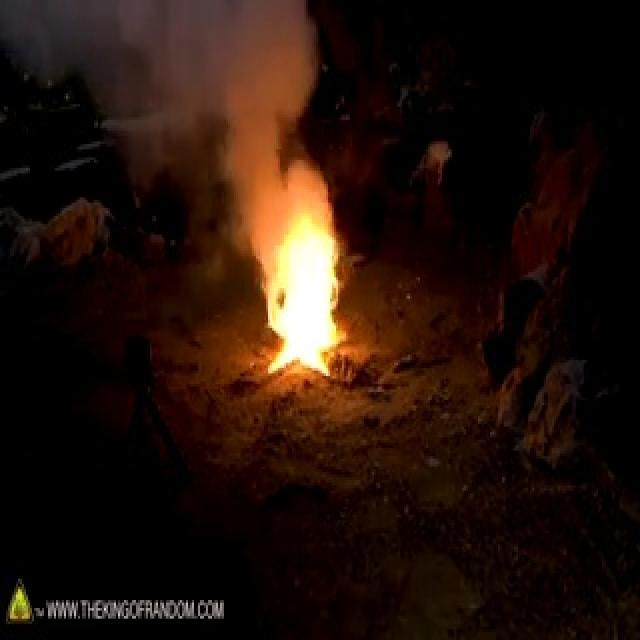fire: (264, 176, 356, 381)
